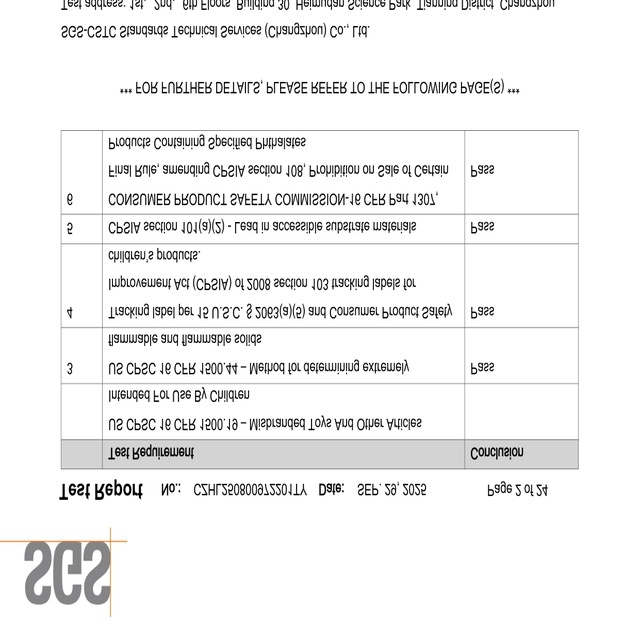sgs: (24, 541, 112, 606)
